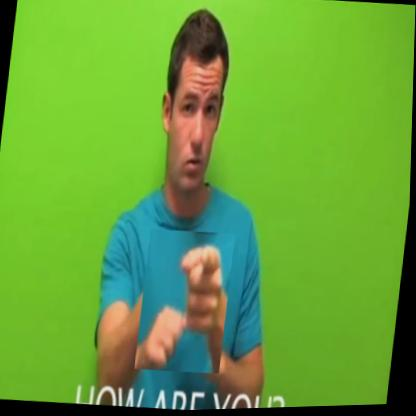HowAreYou: (137, 228, 237, 377)
